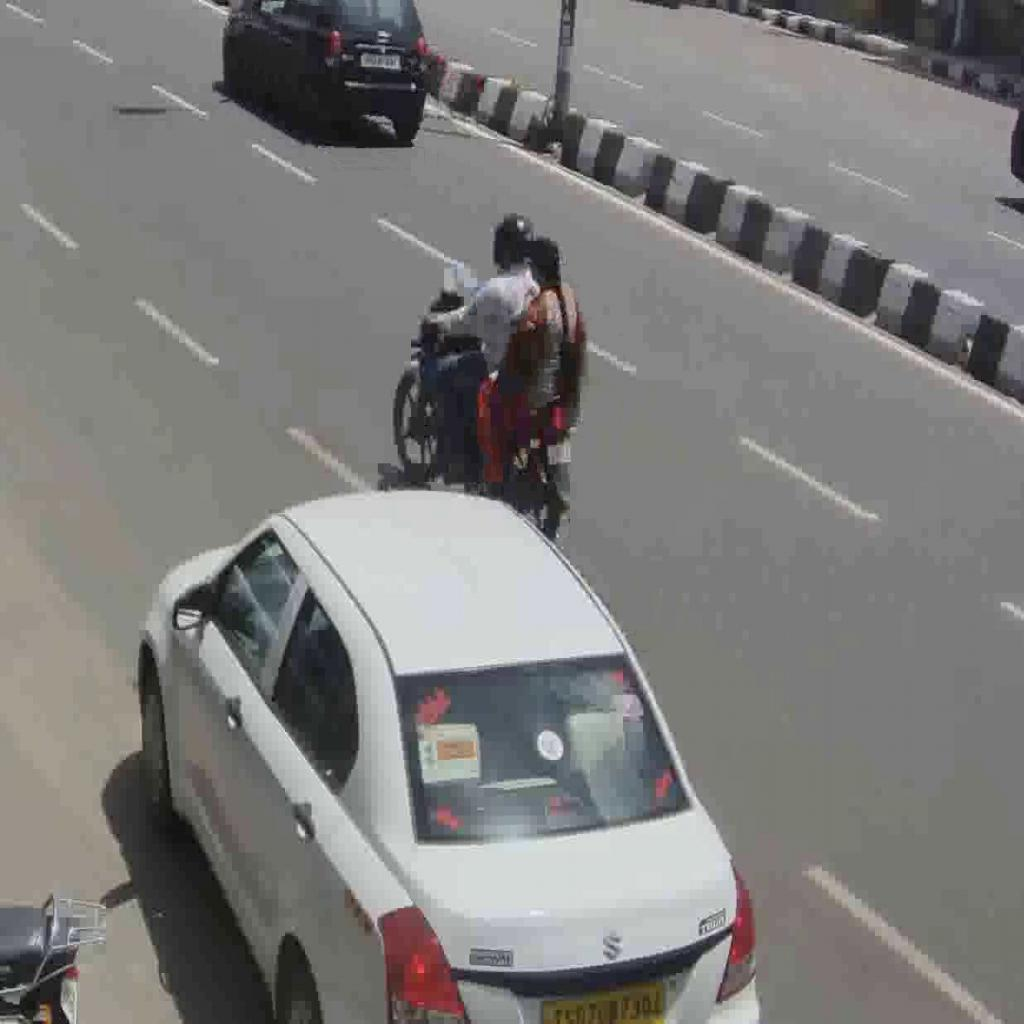helmet: (391, 287, 578, 545)
